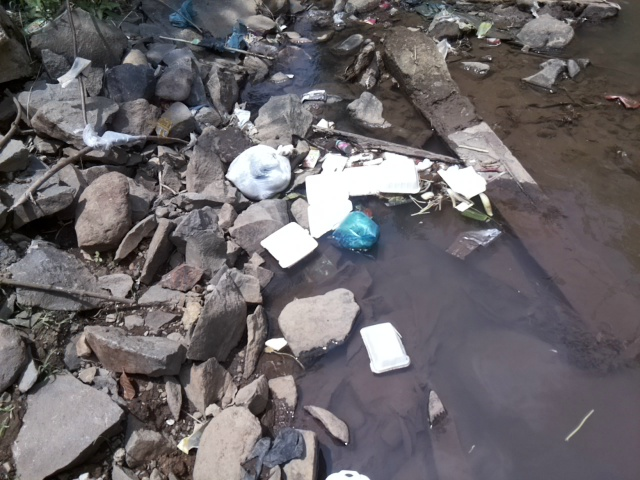Sampah_Botol_Plastik: (331, 139, 354, 152)
Sampah_Plastik: (224, 144, 294, 198), (249, 428, 307, 477), (332, 213, 382, 252), (446, 226, 501, 259), (85, 126, 148, 152)
Sampah_Styrofoam: (307, 160, 424, 222), (357, 321, 414, 374), (260, 220, 319, 270), (436, 161, 490, 199)
